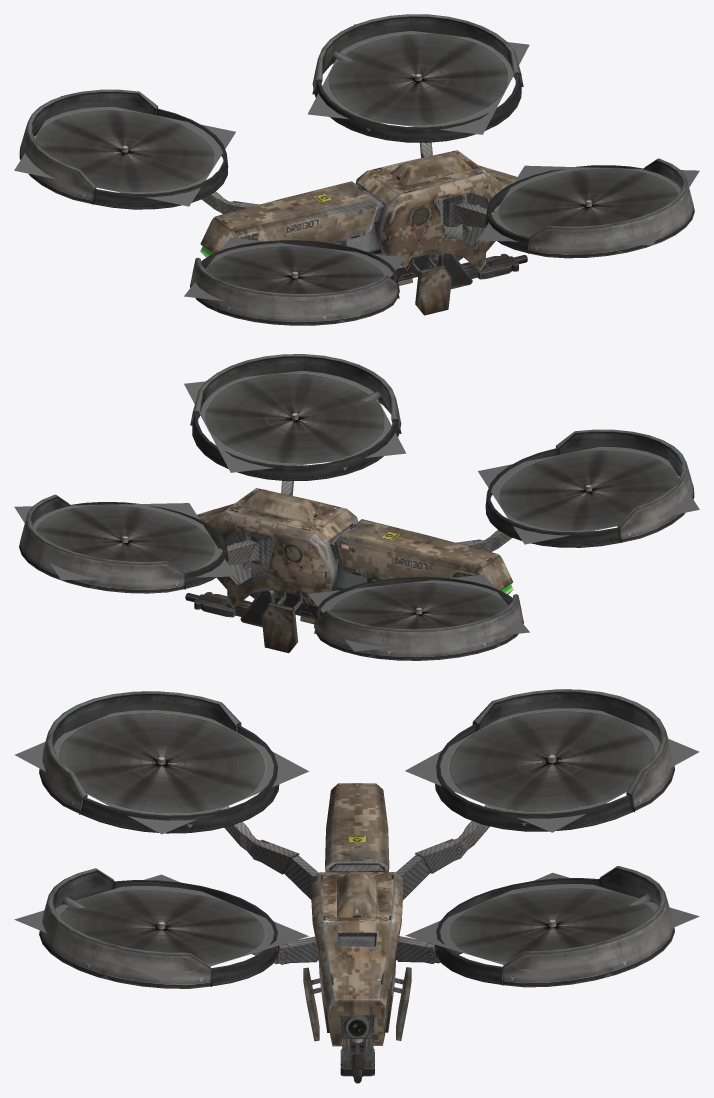
3 views of the same model, one above another, from view 1: azimuth 30°, elevation 25°; view 2: azimuth 150°, elevation 25°; view 3: azimuth 270°, elevation 25° (orthographic). The views are drawn at different scales.
Visible parts, largest first — view 1: Mesh_0814, Mesh_1006, Mesh_1008, Mesh_1007, Mesh_1009, Mesh_0820, Mesh_0817, Mesh_0819, Mesh_0818, Mesh_0815, Mesh_0816, Mesh_0823 (+2 smaller); view 2: Mesh_0814, Mesh_1007, Mesh_1009, Mesh_1006, Mesh_1008, Mesh_0819, Mesh_0818, Mesh_0820, Mesh_0817, Mesh_0815, Mesh_0816, Mesh_0823 (+2 smaller); view 3: Mesh_1008, Mesh_1009, Mesh_0814, Mesh_1007, Mesh_1006, Mesh_0817, Mesh_0818, Mesh_0820, Mesh_0819, Mesh_0816, Mesh_0815, Mesh_0823.
Part boxes in pixels (x1,y1,x2,y2): Mesh_0814: (200, 150, 517, 270); Mesh_1006: (308, 24, 529, 134); Mesh_1008: (14, 96, 235, 206); Mesh_1007: (478, 165, 699, 245); Mesh_1009: (184, 237, 405, 316); Mesh_0820: (190, 240, 399, 325); Mesh_0817: (312, 14, 523, 142); Mesh_0819: (19, 89, 228, 209); Mesh_0818: (485, 158, 694, 258); Mesh_0815: (398, 254, 451, 315); Mesh_0816: (202, 142, 495, 244); Mesh_0823: (461, 253, 527, 279); Mesh_0814: (197, 488, 513, 607); Mesh_1007: (184, 364, 406, 472); Mesh_1009: (478, 447, 699, 544); Mesh_1006: (14, 503, 235, 580); Mesh_1008: (308, 574, 529, 651); Mesh_0819: (314, 577, 523, 660); Mesh_0818: (190, 354, 401, 481); Mesh_0820: (485, 429, 694, 547); Mesh_0817: (19, 494, 228, 593); Mesh_0815: (261, 592, 314, 653); Mesh_0816: (218, 480, 512, 581); Mesh_0823: (185, 592, 251, 617); Mesh_1008: (405, 708, 699, 832); Mesh_1009: (15, 710, 308, 834); Mesh_0814: (311, 783, 402, 1046); Mesh_1007: (14, 874, 308, 981); Mesh_1006: (405, 872, 699, 979); Mesh_0817: (434, 866, 674, 987); Mesh_0818: (39, 868, 279, 988); Mesh_0820: (39, 691, 279, 833); Mesh_0819: (435, 689, 674, 831); Mesh_0816: (217, 805, 496, 964); Mesh_0815: (303, 967, 411, 1041); Mesh_0823: (340, 1039, 374, 1083).
Bounding box in the file's own units: 414 × 123 × 415.
3 materials, 3 textured.
